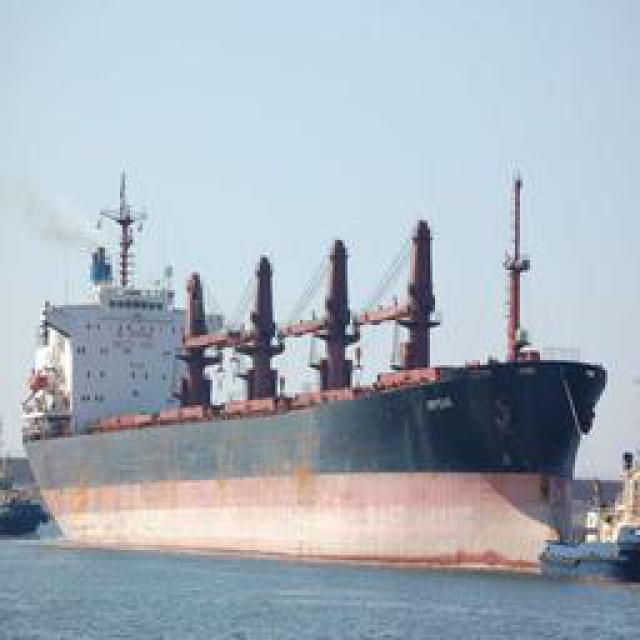Ship: (21, 159, 640, 573)
